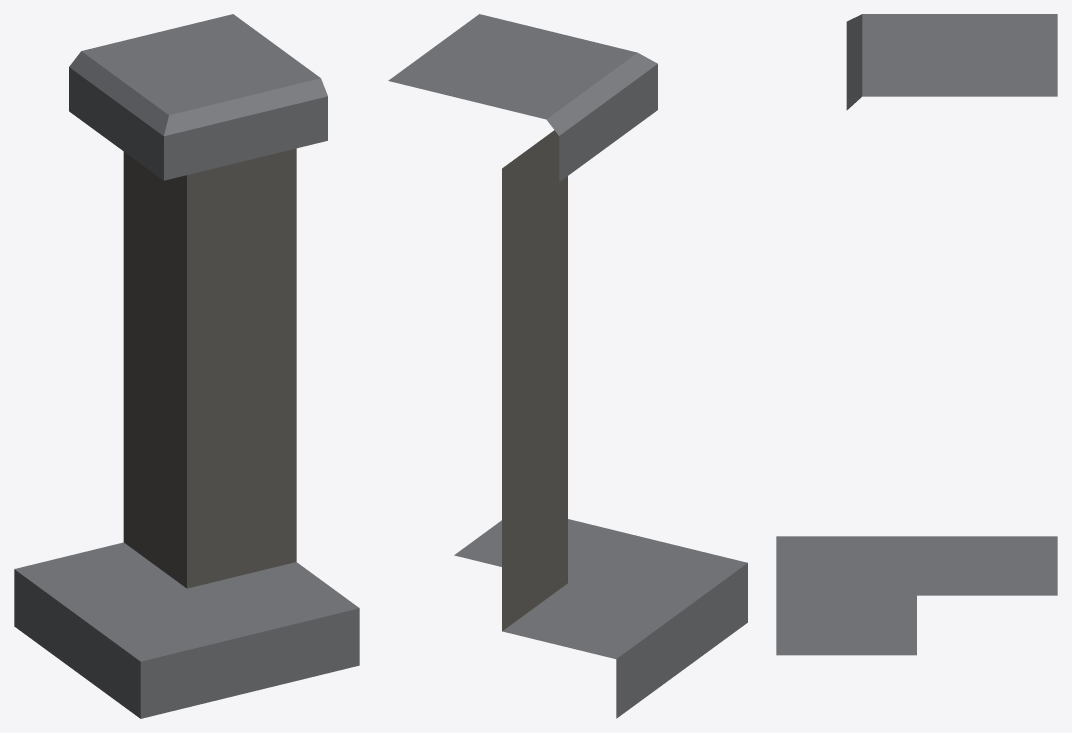
Rendered from SM_Roof_Pillar_Out.gltf.
The picture shows the model from 3 angles, left to right: view 1: azimuth 30°, elevation 25°; view 2: azimuth 150°, elevation 25°; view 3: azimuth 270°, elevation 25°; orthographic projection. The views are drawn at different scales.
Visible parts, largest first — view 1: SM_Roof_Pillar; view 2: SM_Roof_Pillar; view 3: SM_Roof_Pillar.
Part boxes in pixels (<box>): SM_Roof_Pillar: <box>14,14,359,718</box>; SM_Roof_Pillar: <box>388,14,747,718</box>; SM_Roof_Pillar: <box>776,14,1057,655</box>.
Size of the model in its own units: 0.4 by 0.9755 by 0.4.
1 material, 1 textured.
